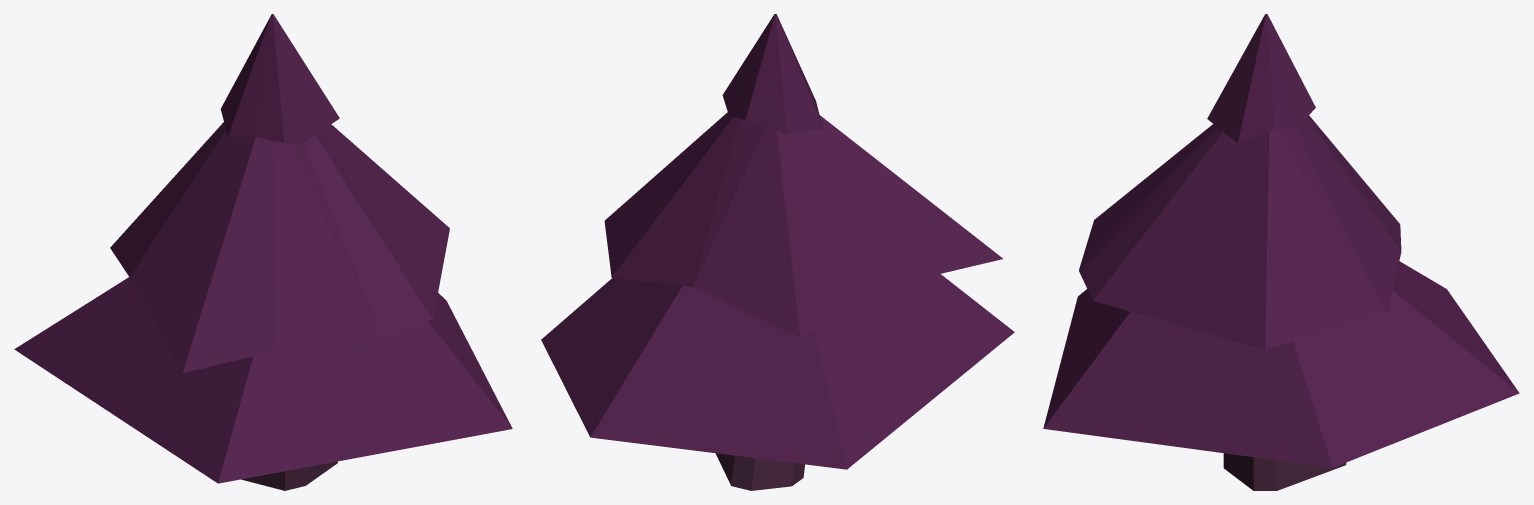
Rendered from treeTest.fbx.
3 renders of one model, left to right at view 1: azimuth 30°, elevation 25°; view 2: azimuth 150°, elevation 25°; view 3: azimuth 270°, elevation 25°, orthographic. The views are drawn at different scales.
Parts seen in each view (by area): view 1: Cube.001; view 2: Cube.001; view 3: Cube.001.
Boxes of the visible parts, <box> form: Cube.001: <box>14,14,512,490</box>; Cube.001: <box>541,14,1014,490</box>; Cube.001: <box>1043,14,1519,490</box>.
Bounding box in the file's own units: 449 × 398 × 466.
